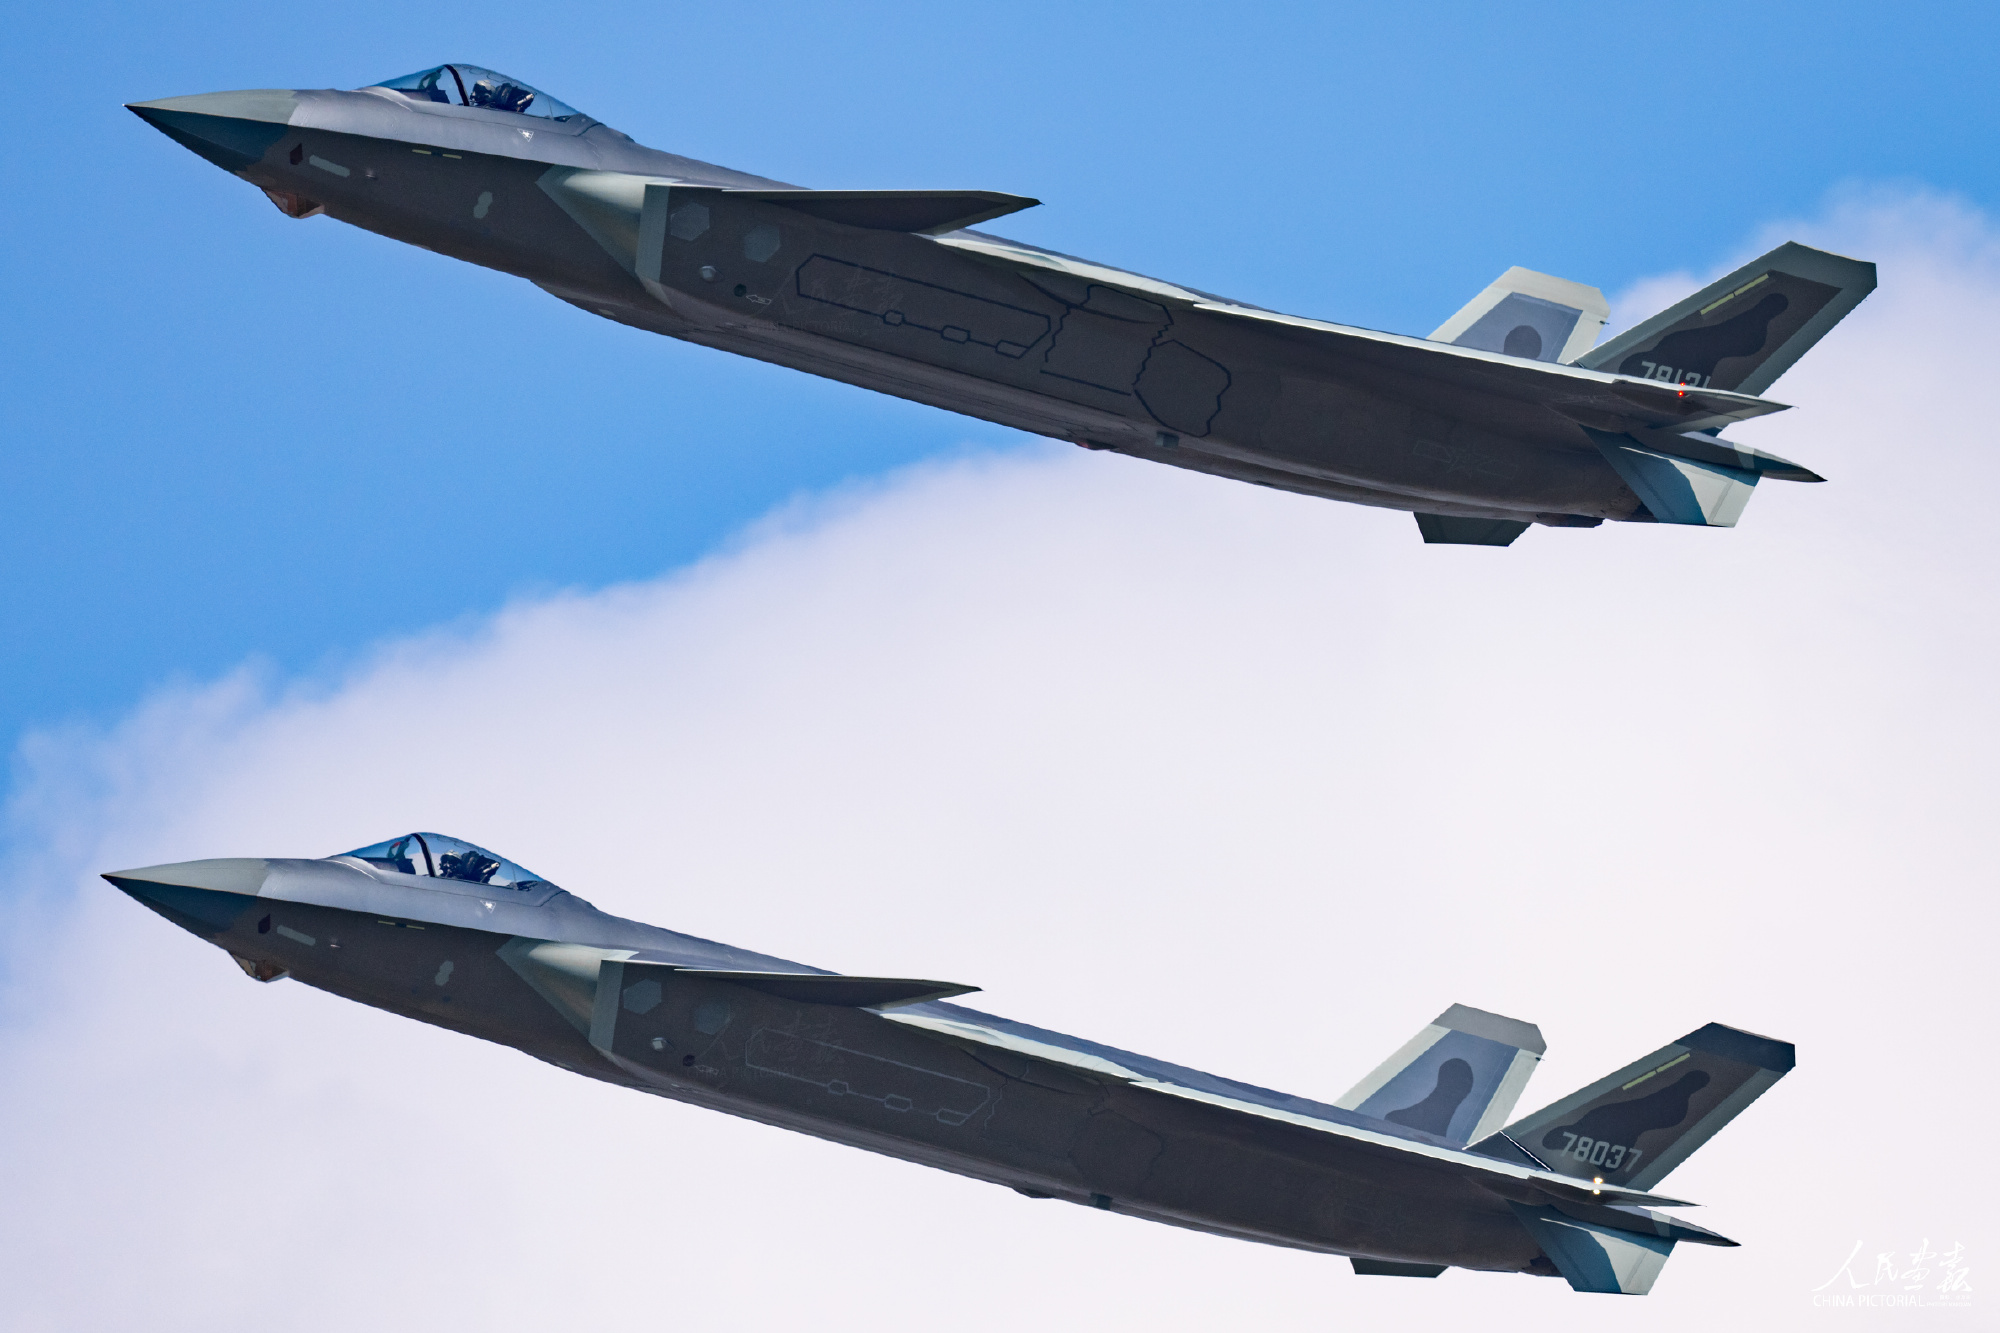J20: (120, 62, 1878, 546), (97, 832, 1796, 1296)
